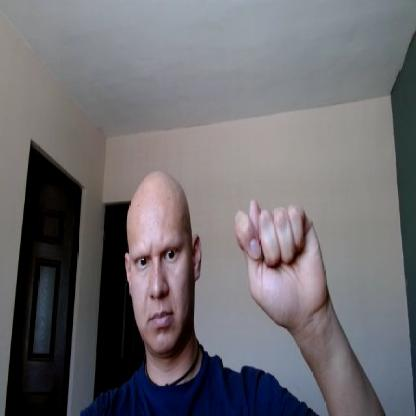T: (234, 198, 328, 328)
